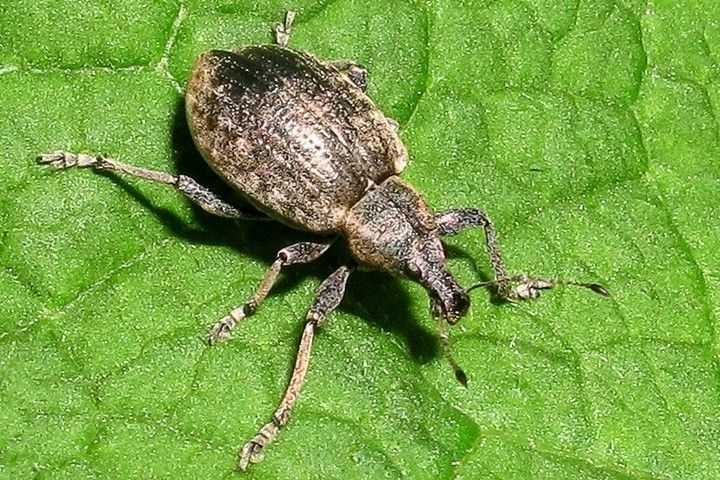dolgonosik: (65, 20, 613, 472)
